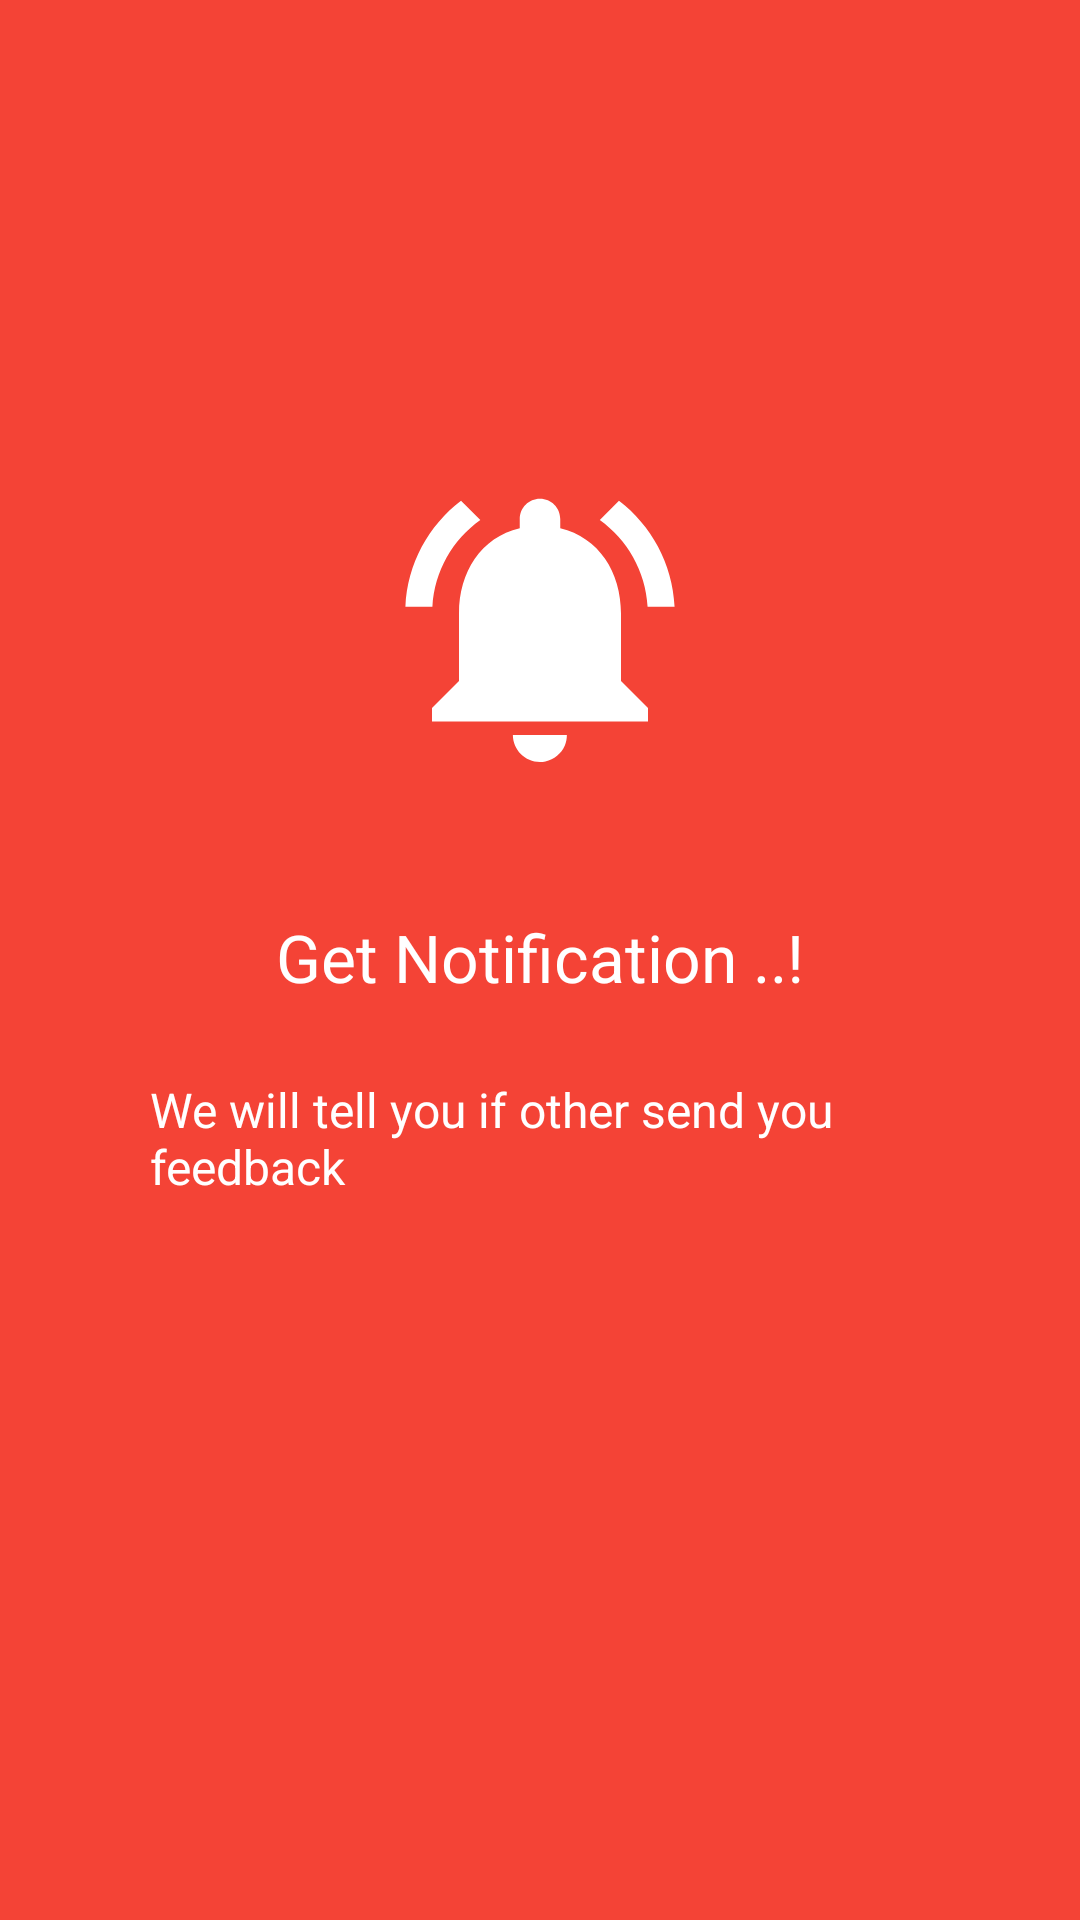

Icons on this 1080 × 1920 Android screen, each with its box as (x1, y1, x2, y2):
notifications: (405, 498, 675, 762)
